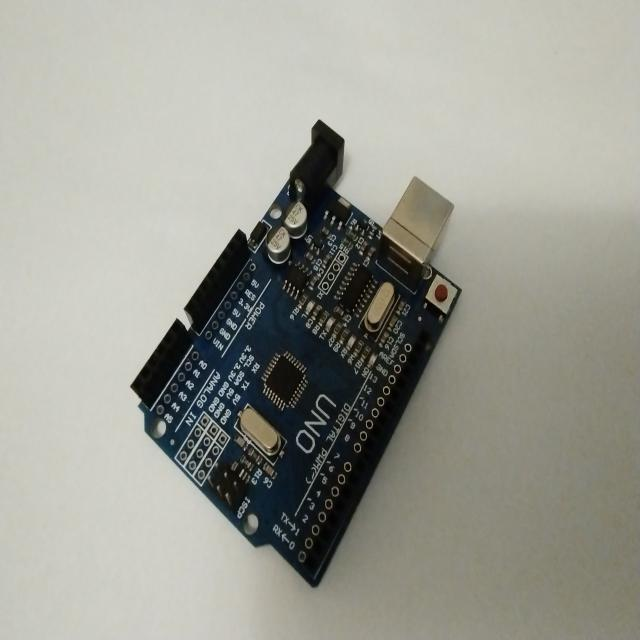arduino: (121, 115, 462, 598)
